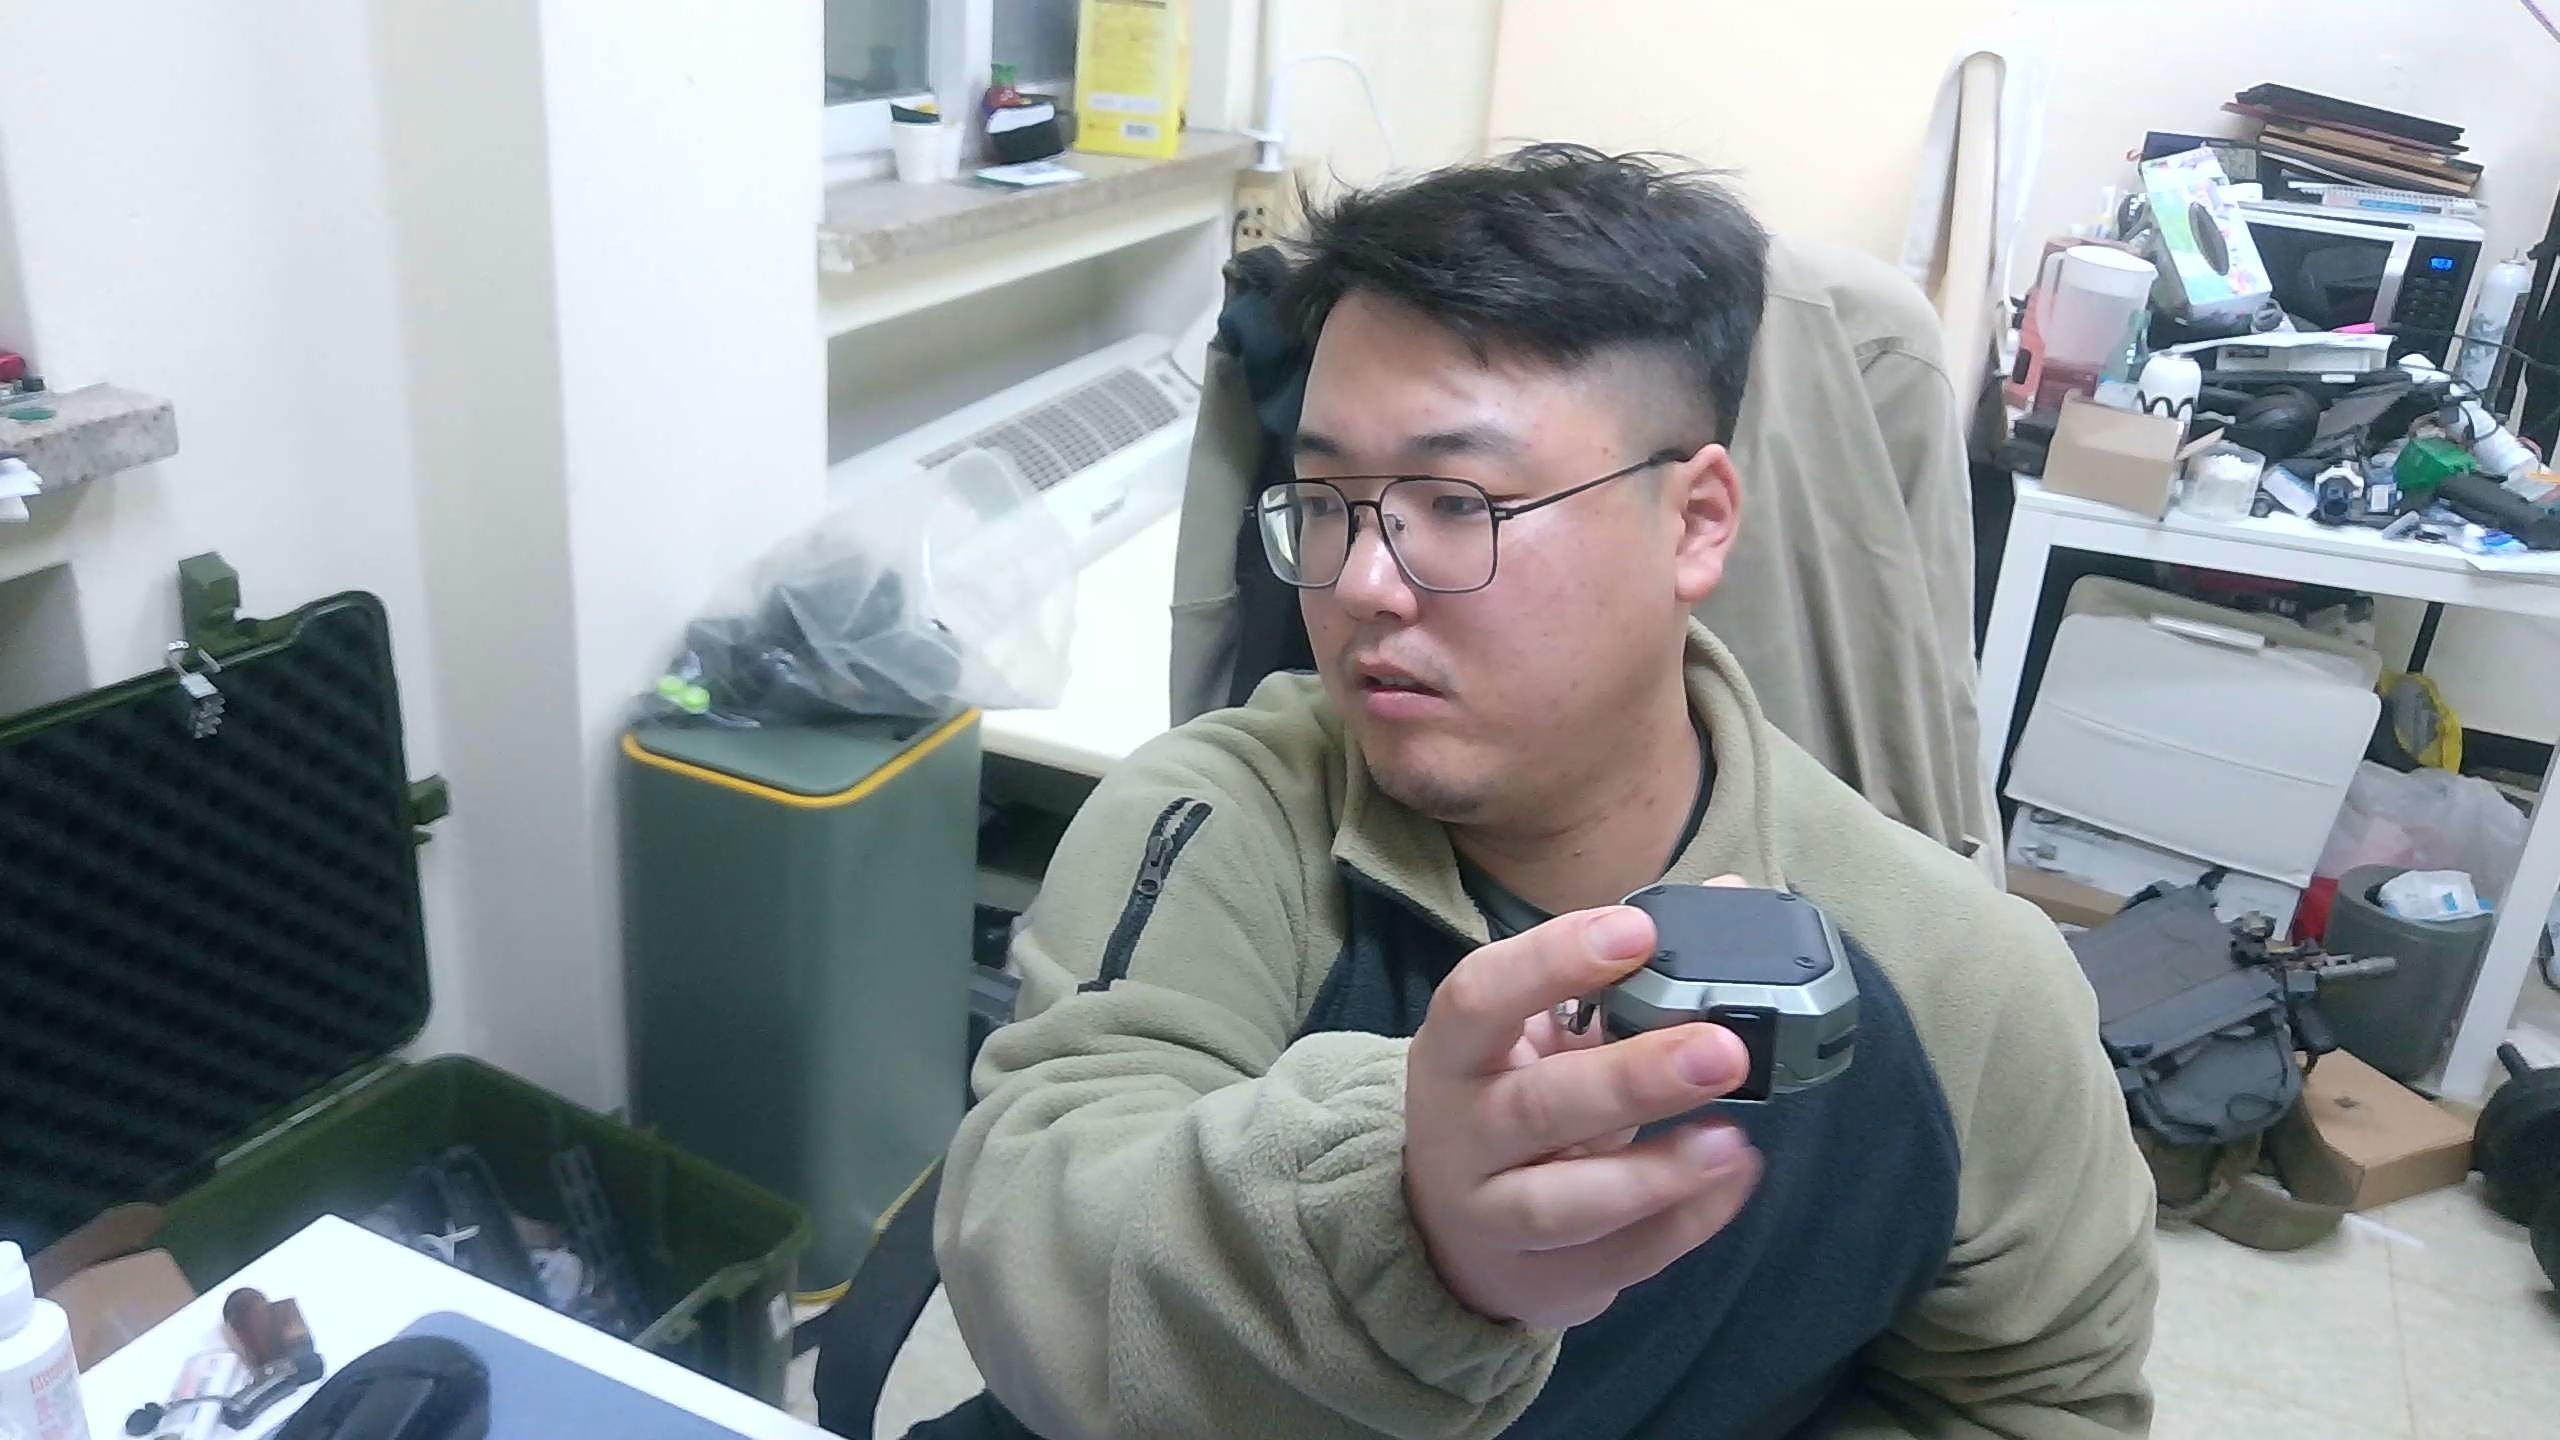blue_pliers: (1596, 879, 1867, 1106)
